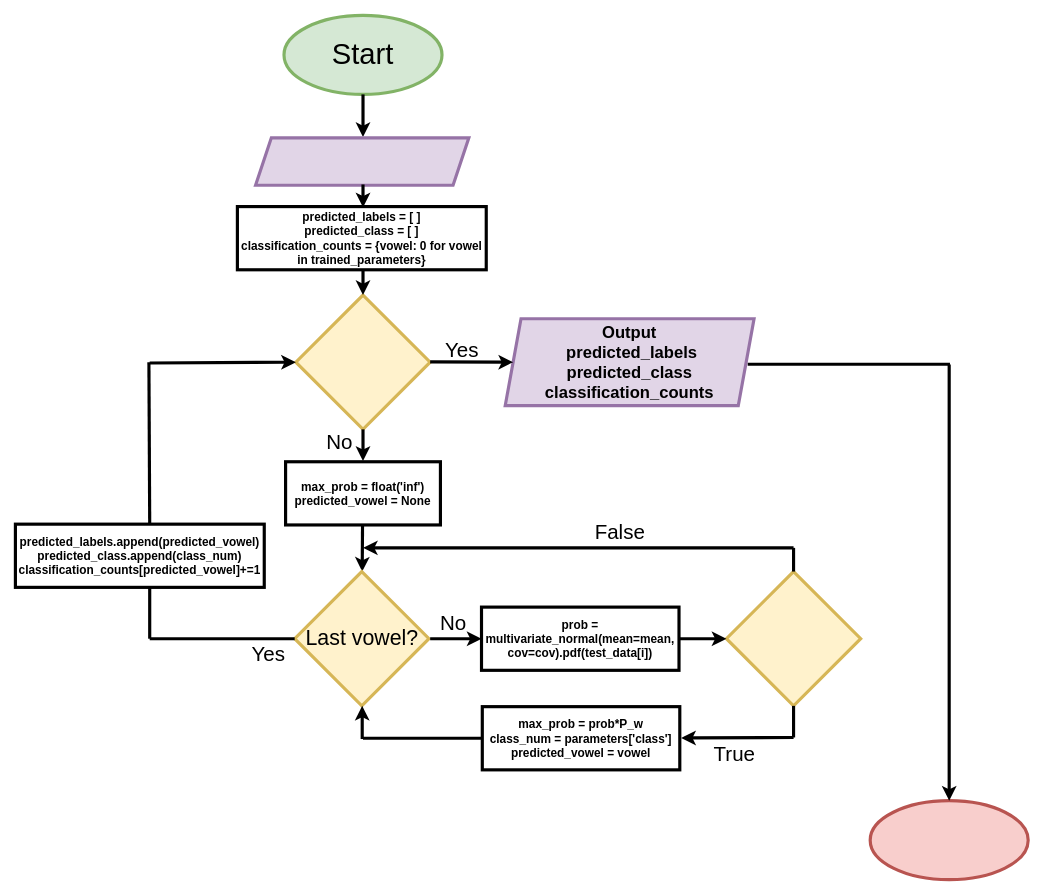
Some shapes in this 1043 by 894 pixel diagram are drawn without their labels. Each missing label, with the centre of its shape:
"End" belongs at (948,840).
"Input test_data" belongs at (362,161).
"Last test sample?" belongs at (362,362).
"prob*P_w > max_prob" belongs at (793,638).
